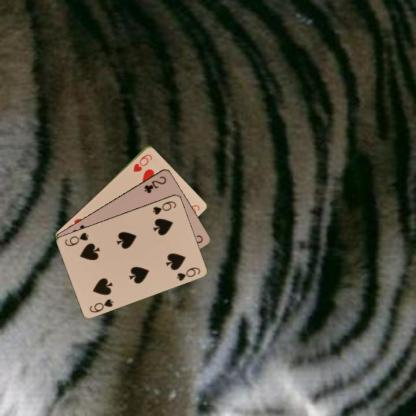2c: (142, 173, 168, 194)
6h: (130, 152, 154, 174)
6s: (150, 198, 177, 216), (87, 296, 114, 314)
